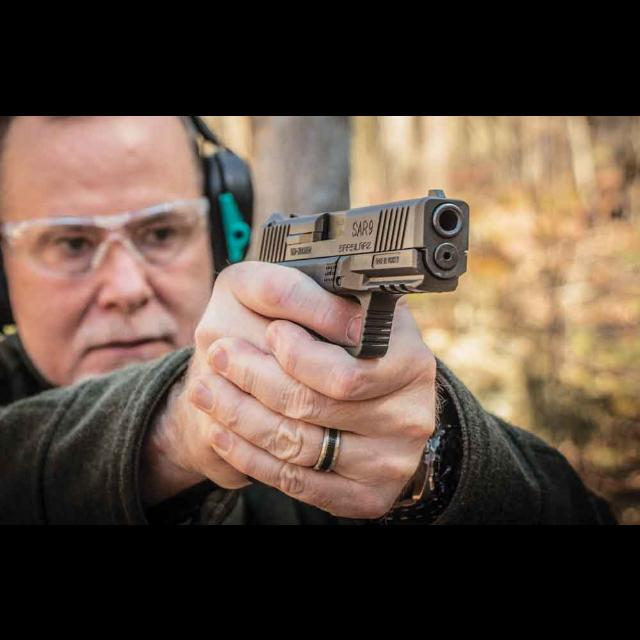handgun: (252, 183, 476, 359)
